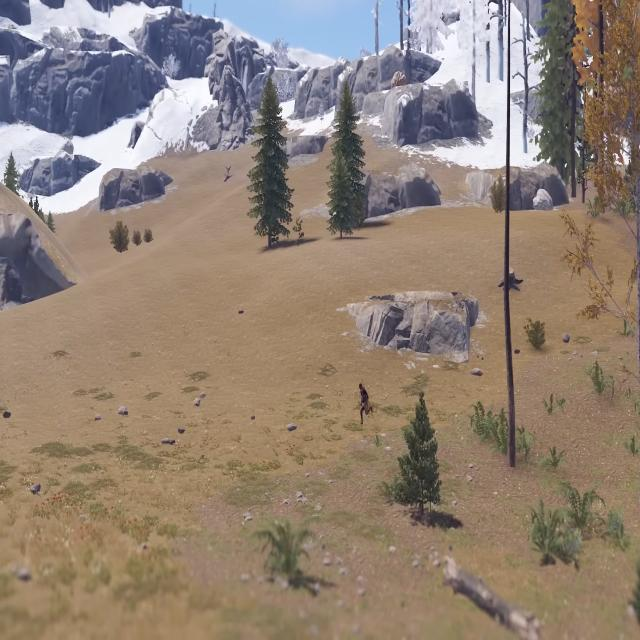Player: (356, 378, 375, 429)
